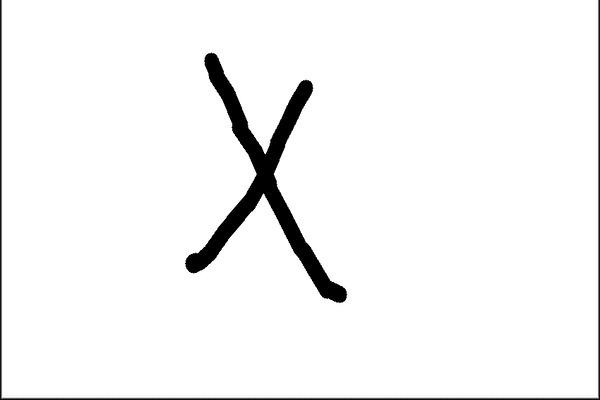X: (157, 39, 387, 318)
